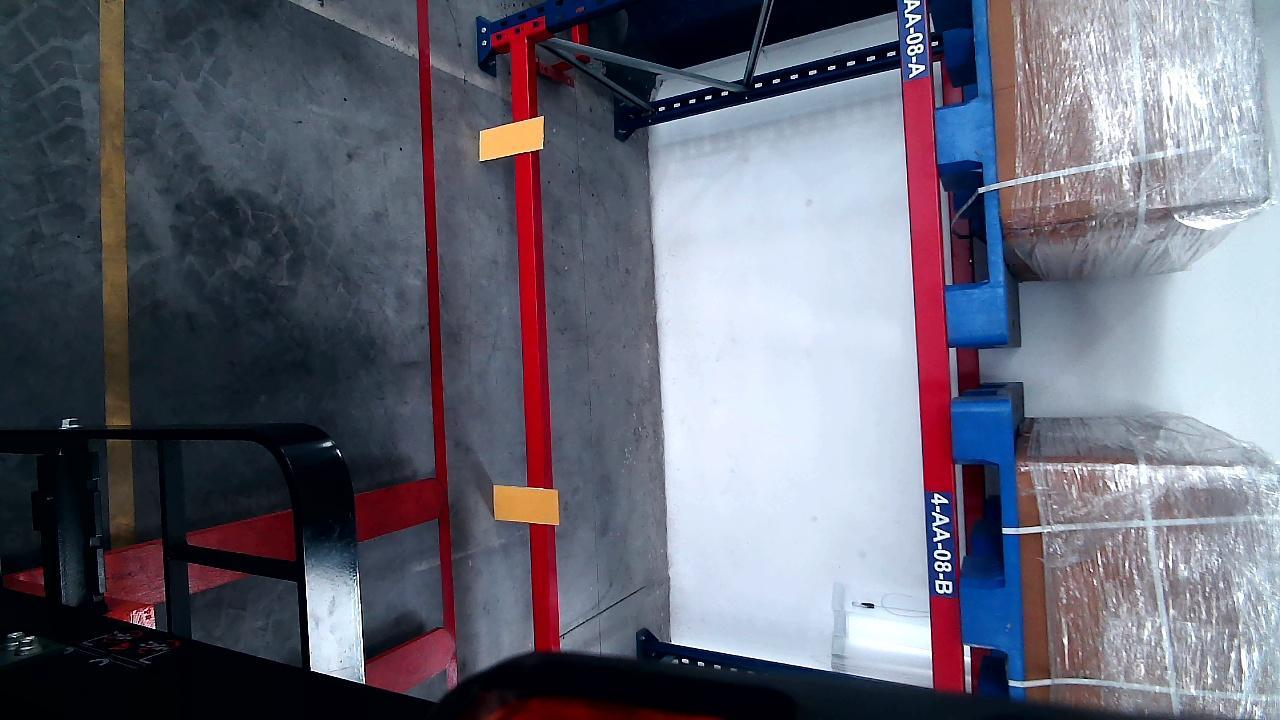red_line: (414, 1, 458, 635)
yellow_line: (99, 1, 133, 540)
